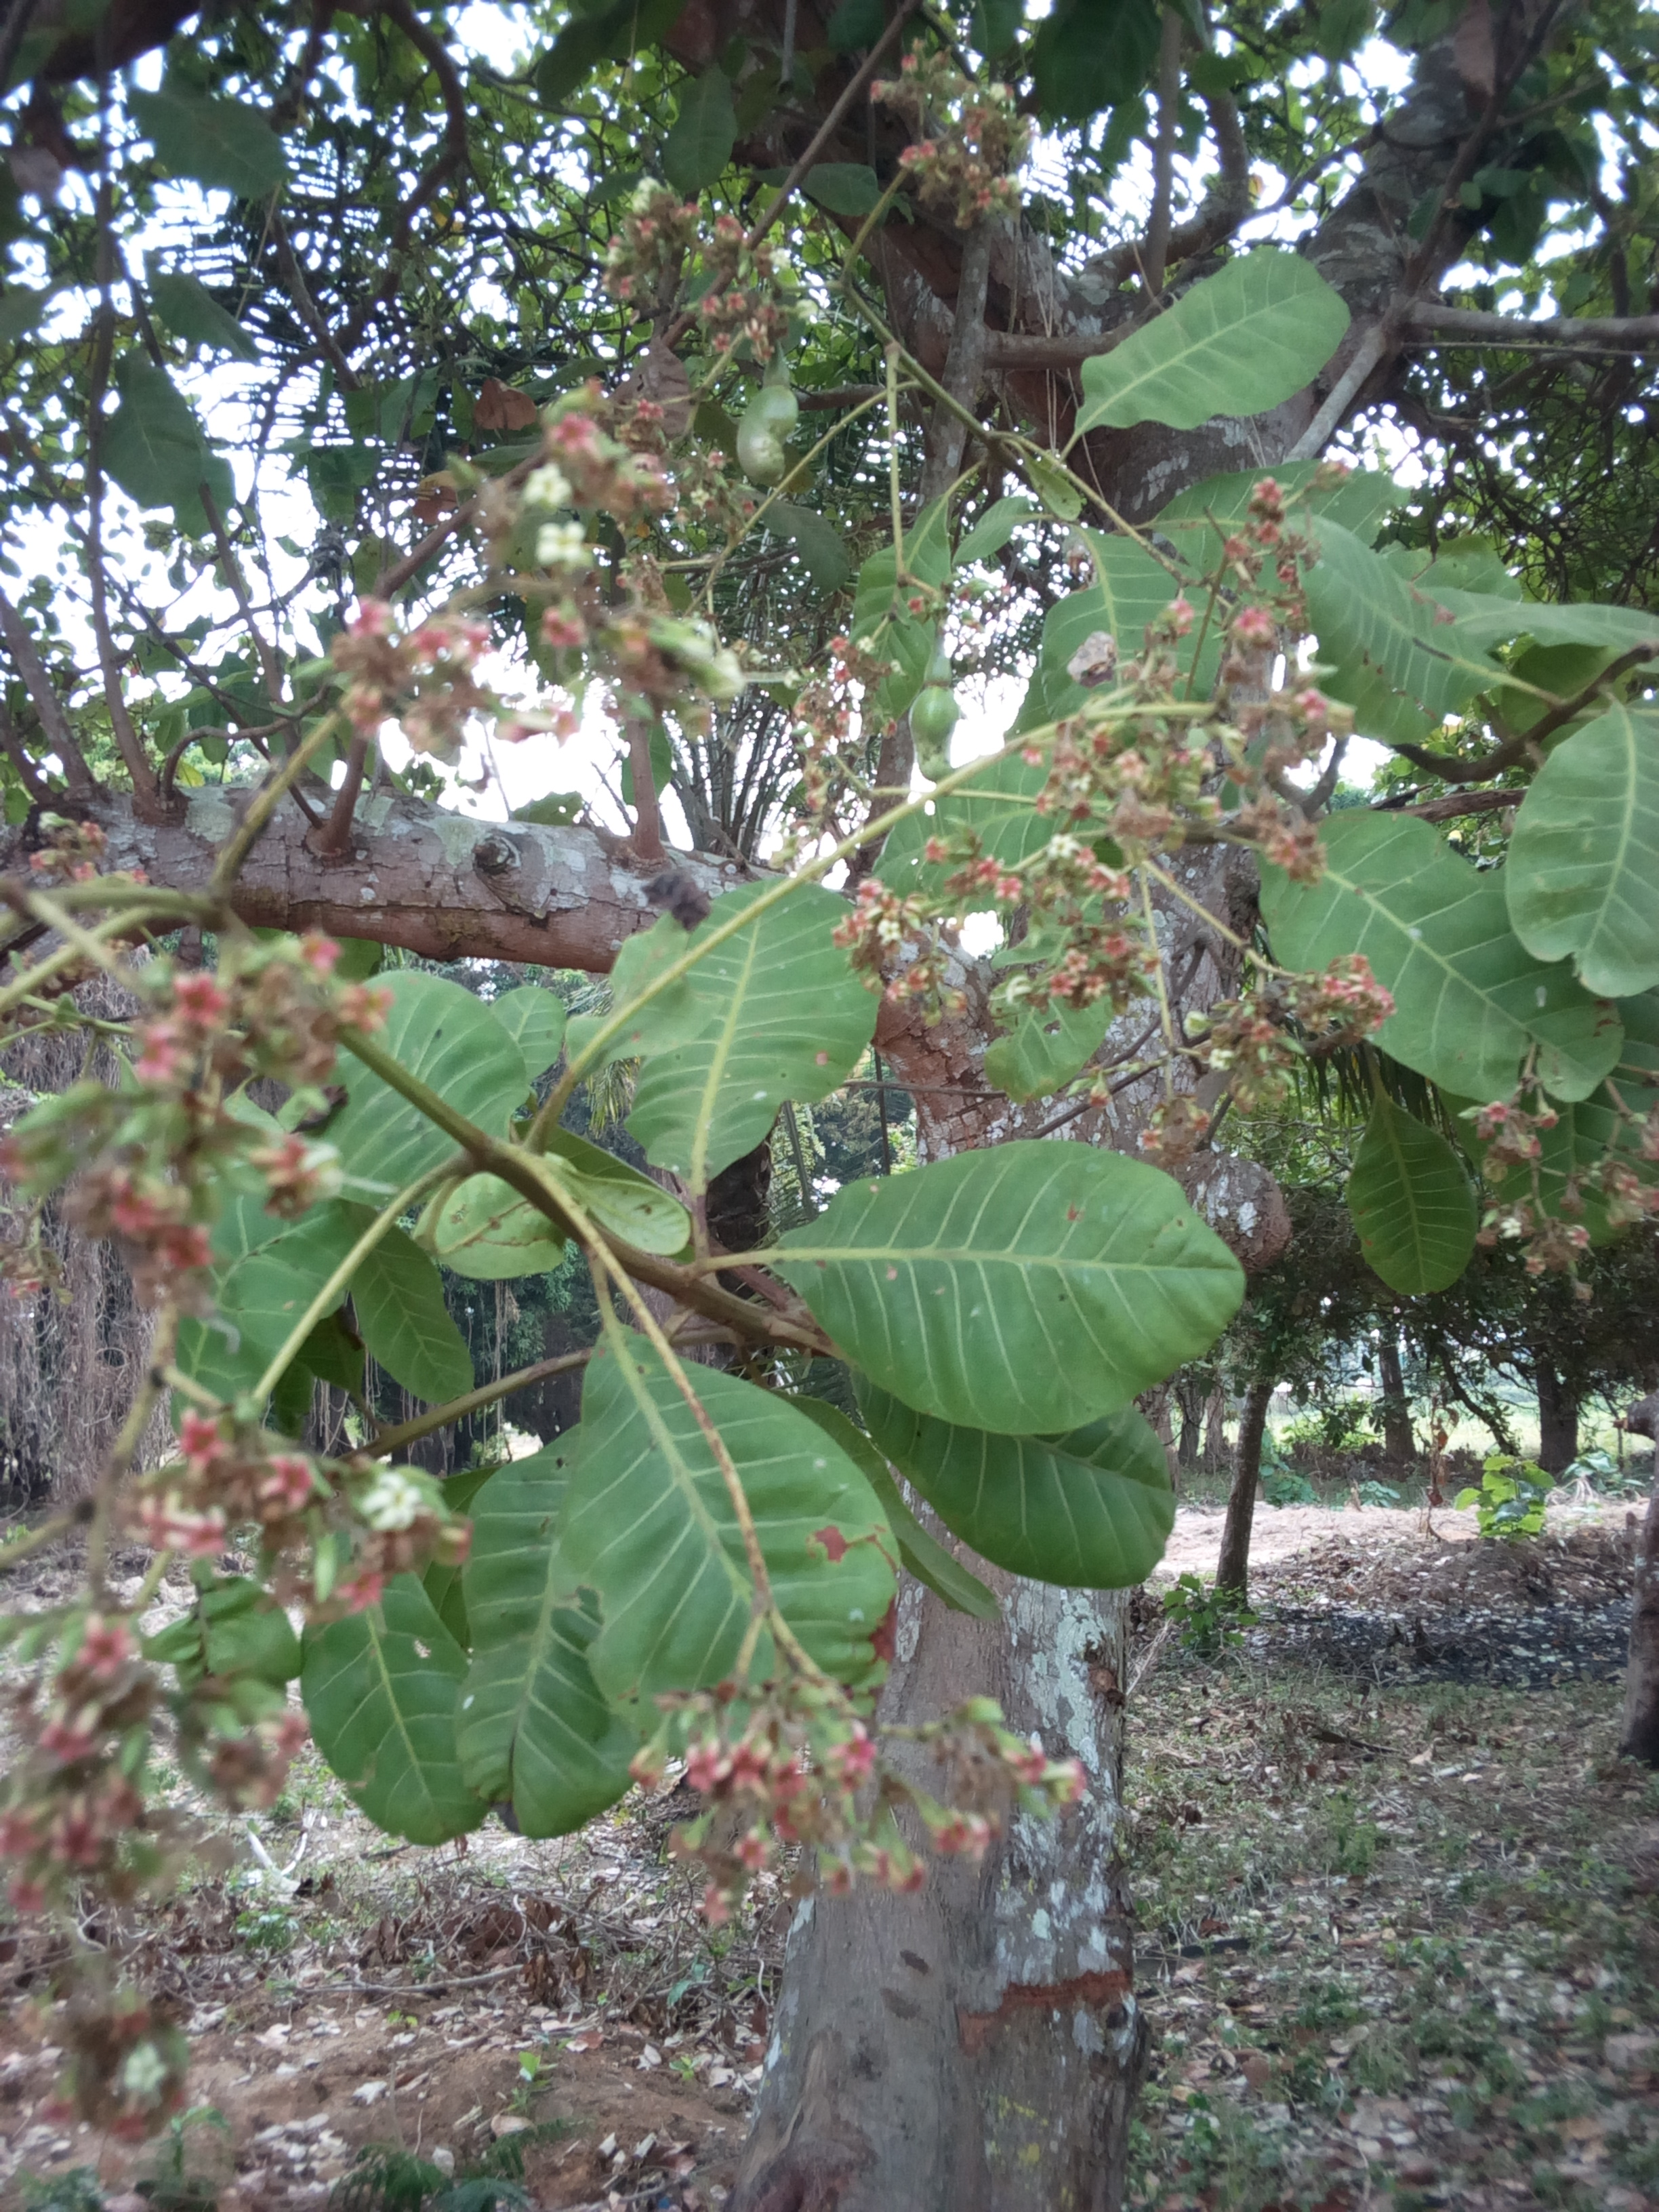Pestalotiose: (782, 1157, 1239, 1425)
